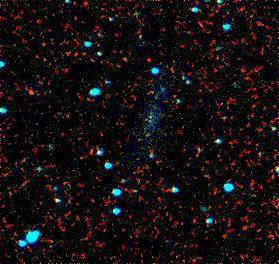star: (15, 82, 45, 112)
